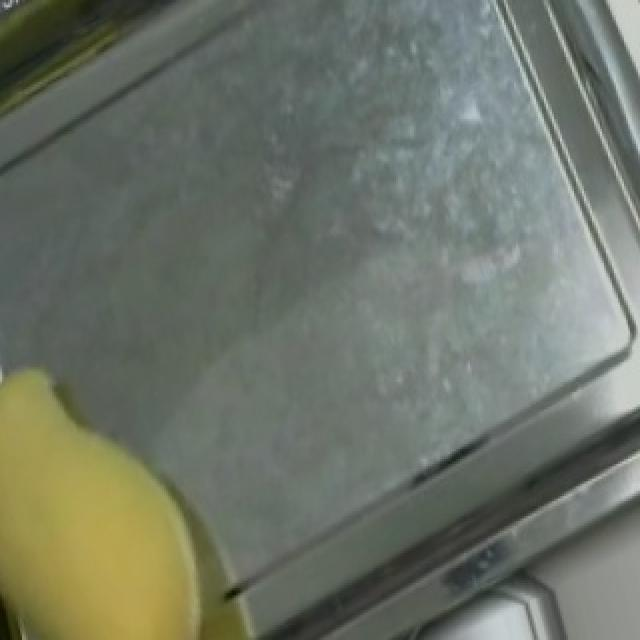fruit: (0, 337, 282, 640)
